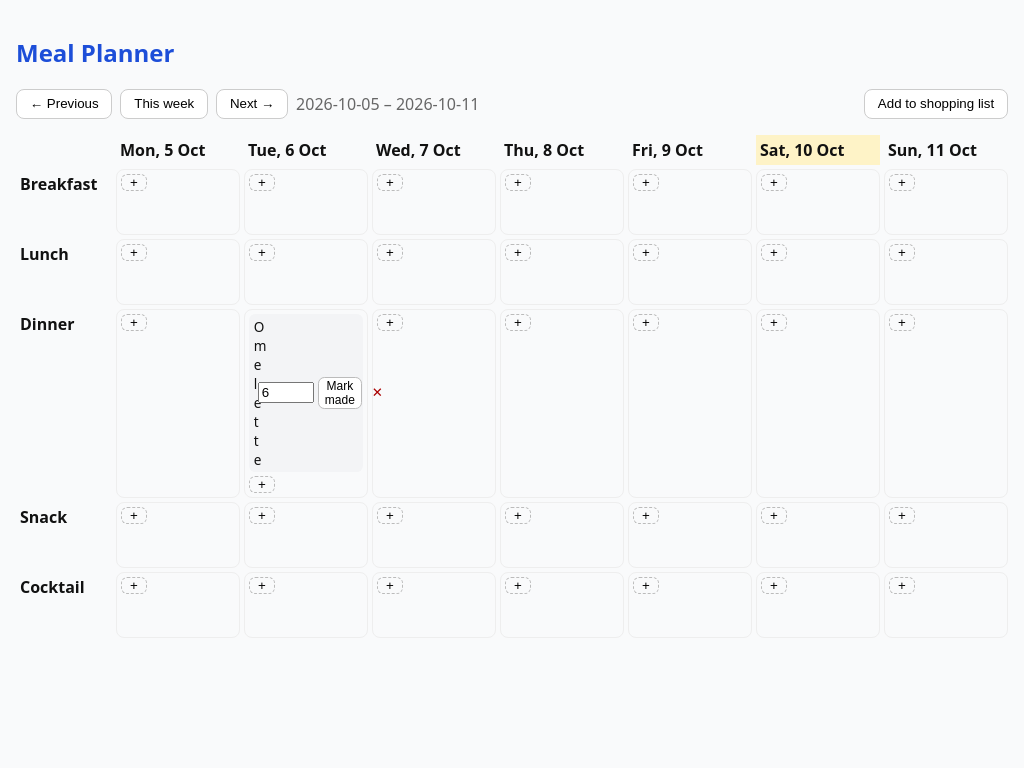
MealPlanner.vue › marks an entry made and undoes it
The width and height of the screenshot is (1024, 768).
Click the button with class "made" at (340, 393), box [318,377,362,409]
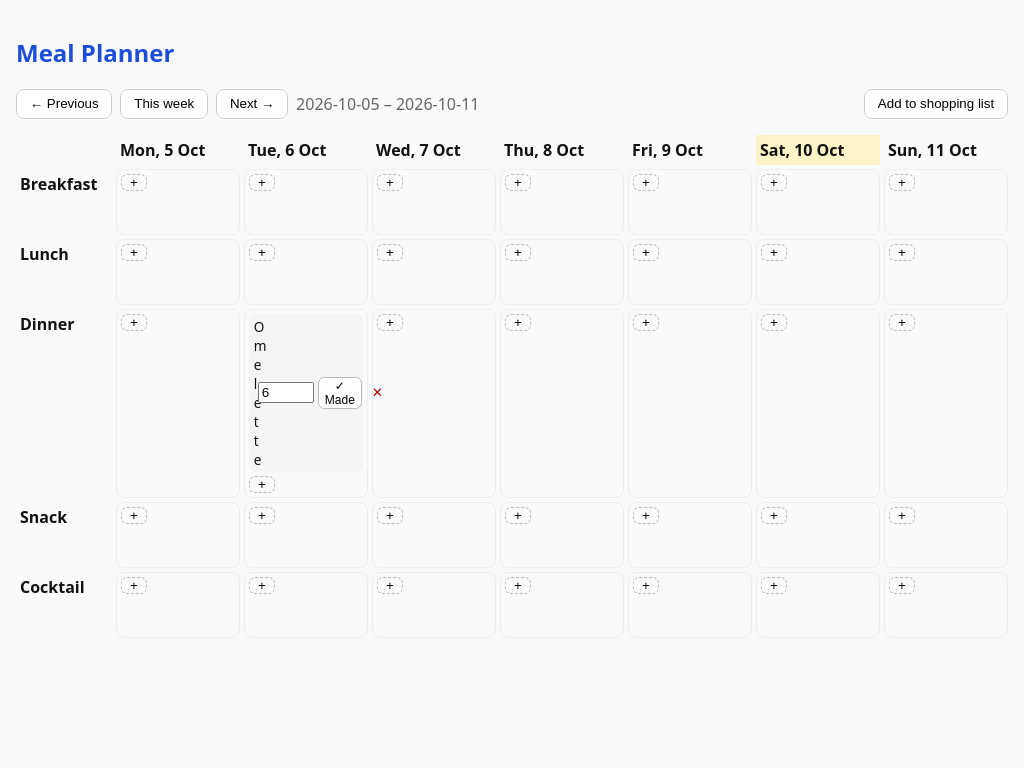
Click the button with class "made" at (340, 393), box [318,377,362,409]
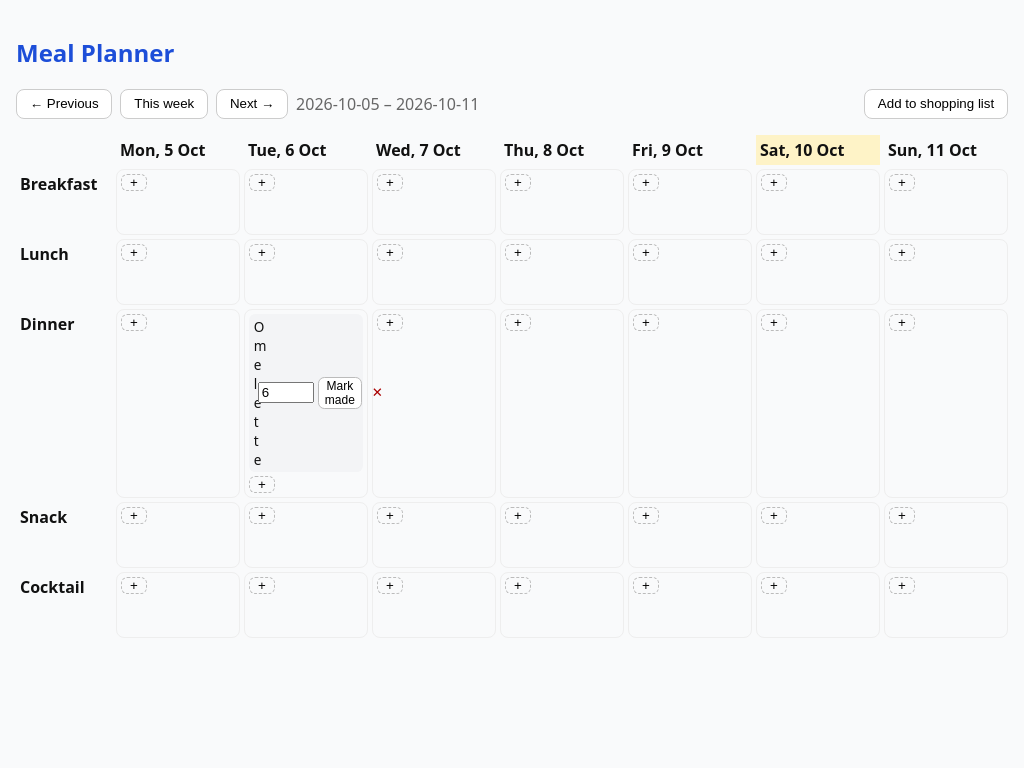
Expected: the button with class "made" reads "Mark made", [318,377,362,409]
